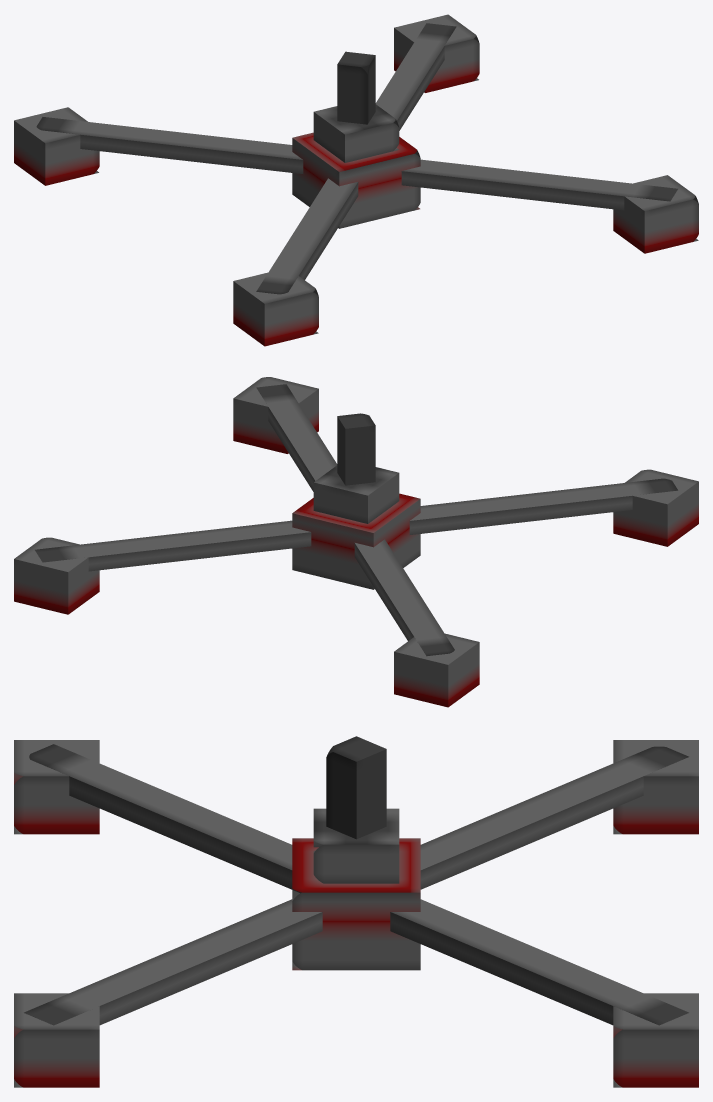
The model's file is cruise_launcher_static.obj.
3 renders of one model, top to bottom at view 1: azimuth 30°, elevation 25°; view 2: azimuth 150°, elevation 25°; view 3: azimuth 270°, elevation 25°, orthographic. The views are drawn at different scales.
Parts seen in each view (by area): view 1: SUPPORT_2, SUPPORT_1, MAIN_BODY, SUPPORT_5, SUPPORT_6, SUPPORT_4, MAIN_SUPPORT, SUPPORT_3, TORQUE_ROT; view 2: SUPPORT_1, SUPPORT_2, MAIN_BODY, SUPPORT_4, SUPPORT_3, SUPPORT_5, MAIN_SUPPORT, SUPPORT_6, TORQUE_ROT; view 3: SUPPORT_1, SUPPORT_2, MAIN_BODY, SUPPORT_3, SUPPORT_6, SUPPORT_4, SUPPORT_5, TORQUE_ROT, MAIN_SUPPORT.
Boxes of the visible parts, left/top/right/bottom form: SUPPORT_2: left=36, top=117, right=677, bottom=210; SUPPORT_1: left=256, top=23, right=456, bottom=294; MAIN_BODY: left=292, top=132, right=420, bottom=228; SUPPORT_5: left=233, top=272, right=318, bottom=346; SUPPORT_6: left=613, top=175, right=698, bottom=253; SUPPORT_4: left=14, top=107, right=99, bottom=185; MAIN_SUPPORT: left=313, top=104, right=399, bottom=162; SUPPORT_3: left=394, top=14, right=479, bottom=92; TORQUE_ROT: left=337, top=51, right=375, bottom=124; SUPPORT_1: left=35, top=478, right=677, bottom=571; SUPPORT_2: left=256, top=384, right=454, bottom=656; MAIN_BODY: left=292, top=493, right=420, bottom=589; SUPPORT_4: left=394, top=633, right=479, bottom=707; SUPPORT_3: left=14, top=537, right=99, bottom=614; SUPPORT_5: left=613, top=469, right=698, bottom=546; MAIN_SUPPORT: left=313, top=465, right=399, bottom=523; SUPPORT_6: left=233, top=377, right=318, bottom=453; TORQUE_ROT: left=337, top=413, right=375, bottom=485; SUPPORT_1: left=29, top=744, right=688, bottom=1025; SUPPORT_2: left=24, top=746, right=688, bottom=1025; MAIN_BODY: left=292, top=838, right=420, bottom=970; SUPPORT_3: left=613, top=993, right=698, bottom=1087; SUPPORT_6: left=14, top=993, right=99, bottom=1087; SUPPORT_4: left=613, top=740, right=698, bottom=834; SUPPORT_5: left=14, top=740, right=99, bottom=834; TORQUE_ROT: left=326, top=736, right=386, bottom=839; MAIN_SUPPORT: left=313, top=808, right=399, bottom=883.
Size of the model in its own units: 2 by 0.625 by 2.
